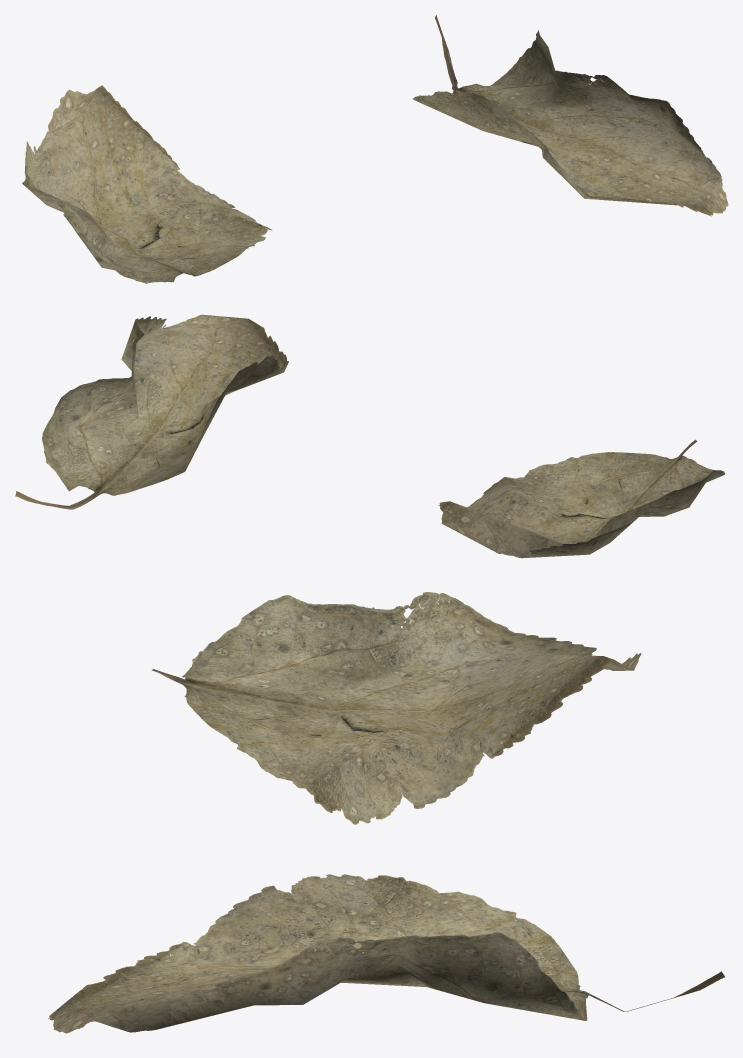
Rendered from leaves_lod0.glb.
The picture shows the model from 3 angles, top to bottom: view 1: azimuth 30°, elevation 25°; view 2: azimuth 150°, elevation 25°; view 3: azimuth 270°, elevation 25°; orthographic projection. The views are drawn at different scales.
Parts seen in each view (by area): view 1: ENV_Foliage_Leaves_Scatter; view 2: ENV_Foliage_Leaves_Scatter; view 3: ENV_Foliage_Leaves_Scatter.
Boxes of the visible parts, left/top/right/bottom form: ENV_Foliage_Leaves_Scatter: left=22, top=15, right=728, bottom=283; ENV_Foliage_Leaves_Scatter: left=15, top=314, right=725, bottom=558; ENV_Foliage_Leaves_Scatter: left=48, top=592, right=724, bottom=1033.
Bounding box in the file's own units: 0.1409 × 0.0211 × 0.1102.
Materials: 1 (1 with a texture image).
